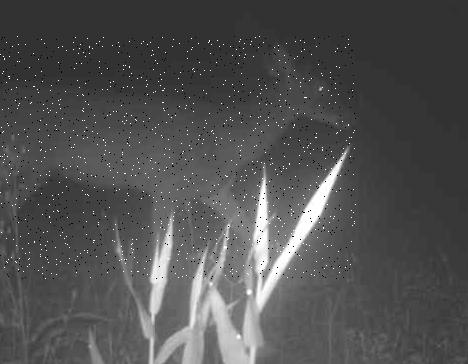Deer: (0, 36, 356, 279)
